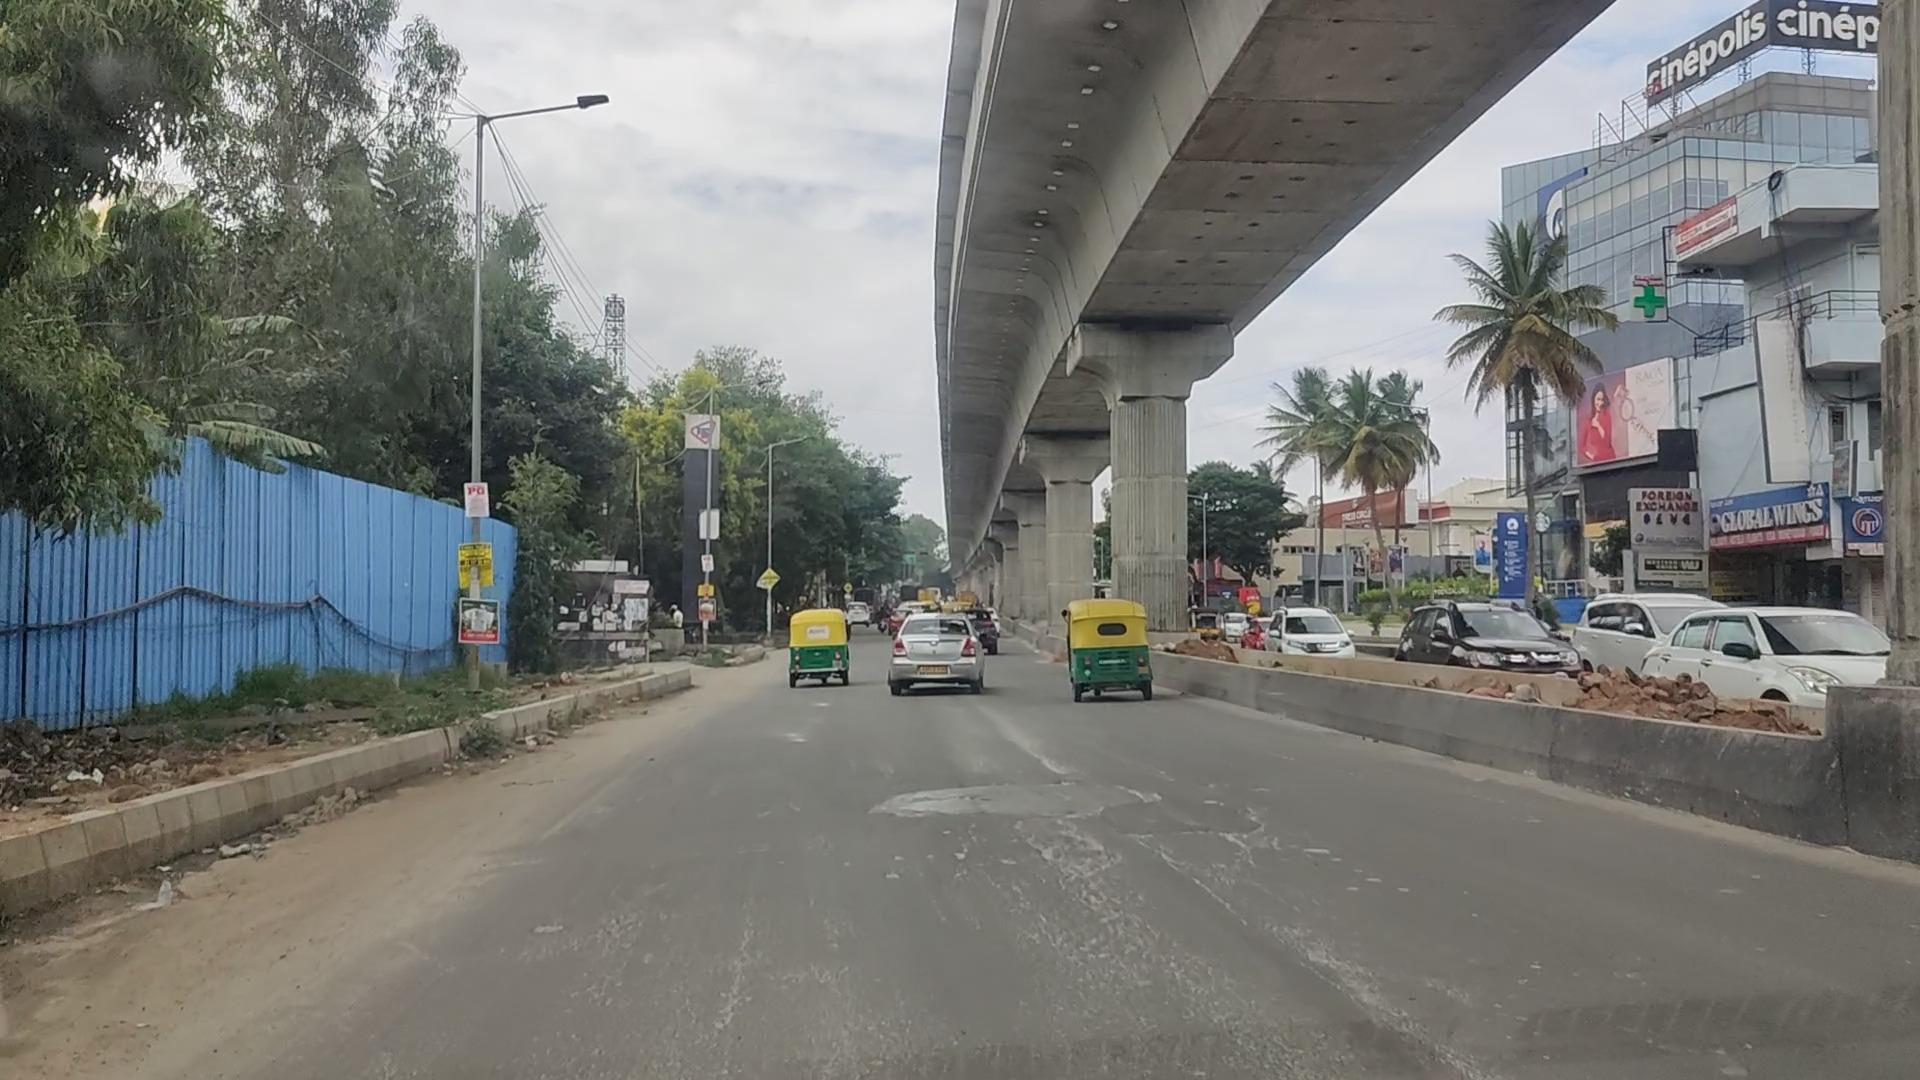LMV: (882, 613, 989, 703), (1069, 600, 1153, 708), (787, 604, 853, 687)
RoadDamages: (862, 771, 1156, 823), (1164, 781, 1276, 860), (1023, 819, 1109, 920)
